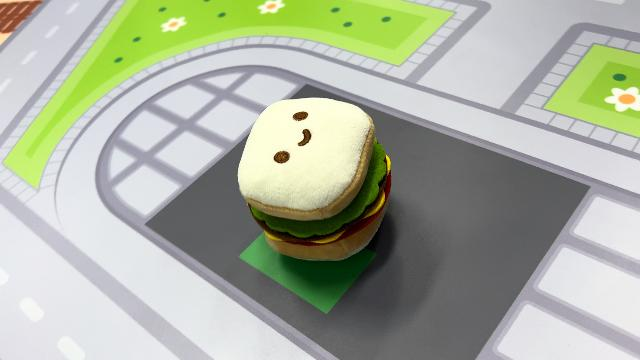sandwich: (236, 94, 394, 262)
